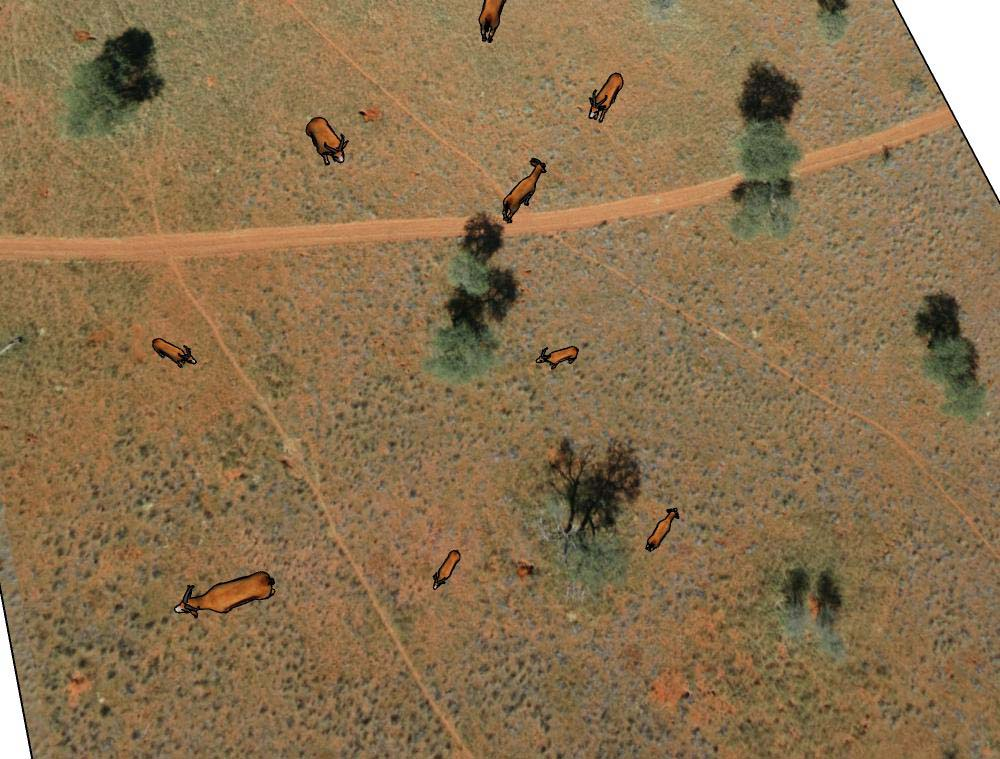springbok: (168, 569, 279, 622), (496, 153, 550, 222), (301, 109, 351, 168), (639, 501, 689, 557), (148, 332, 200, 377), (582, 71, 627, 121), (464, 1, 511, 44), (426, 548, 463, 594), (533, 338, 581, 370)
